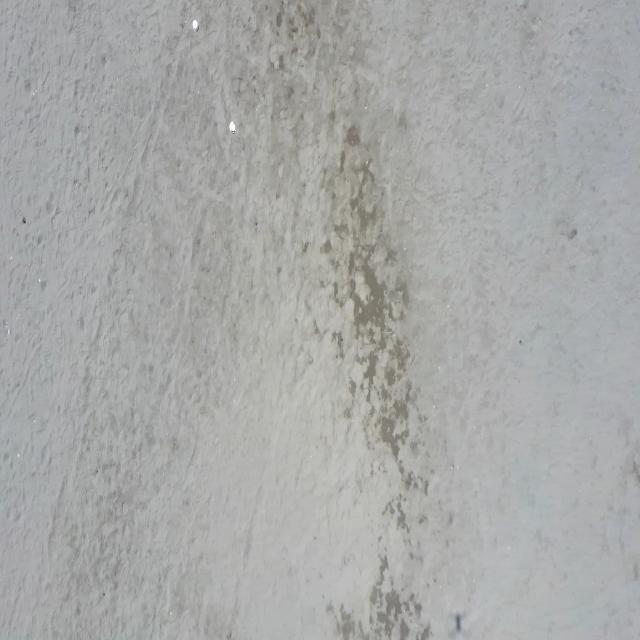take-away-containers: (192, 18, 199, 32), (229, 122, 236, 134)
